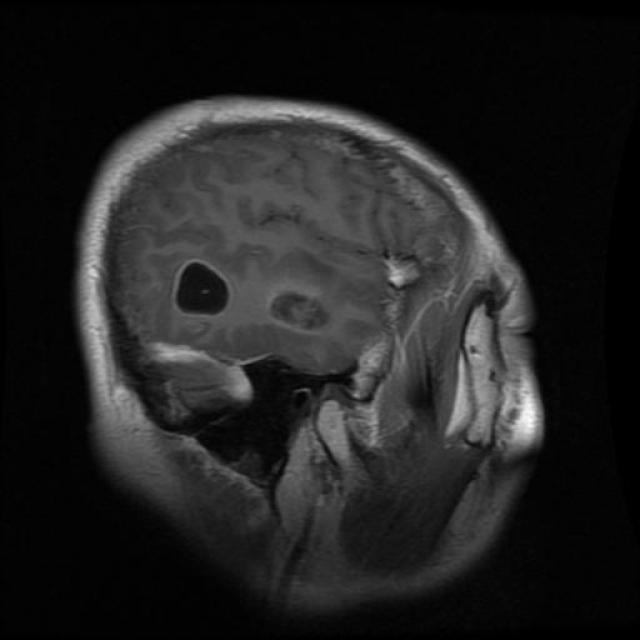glioma: (176, 260, 232, 315), (265, 286, 329, 331), (379, 248, 426, 293)
